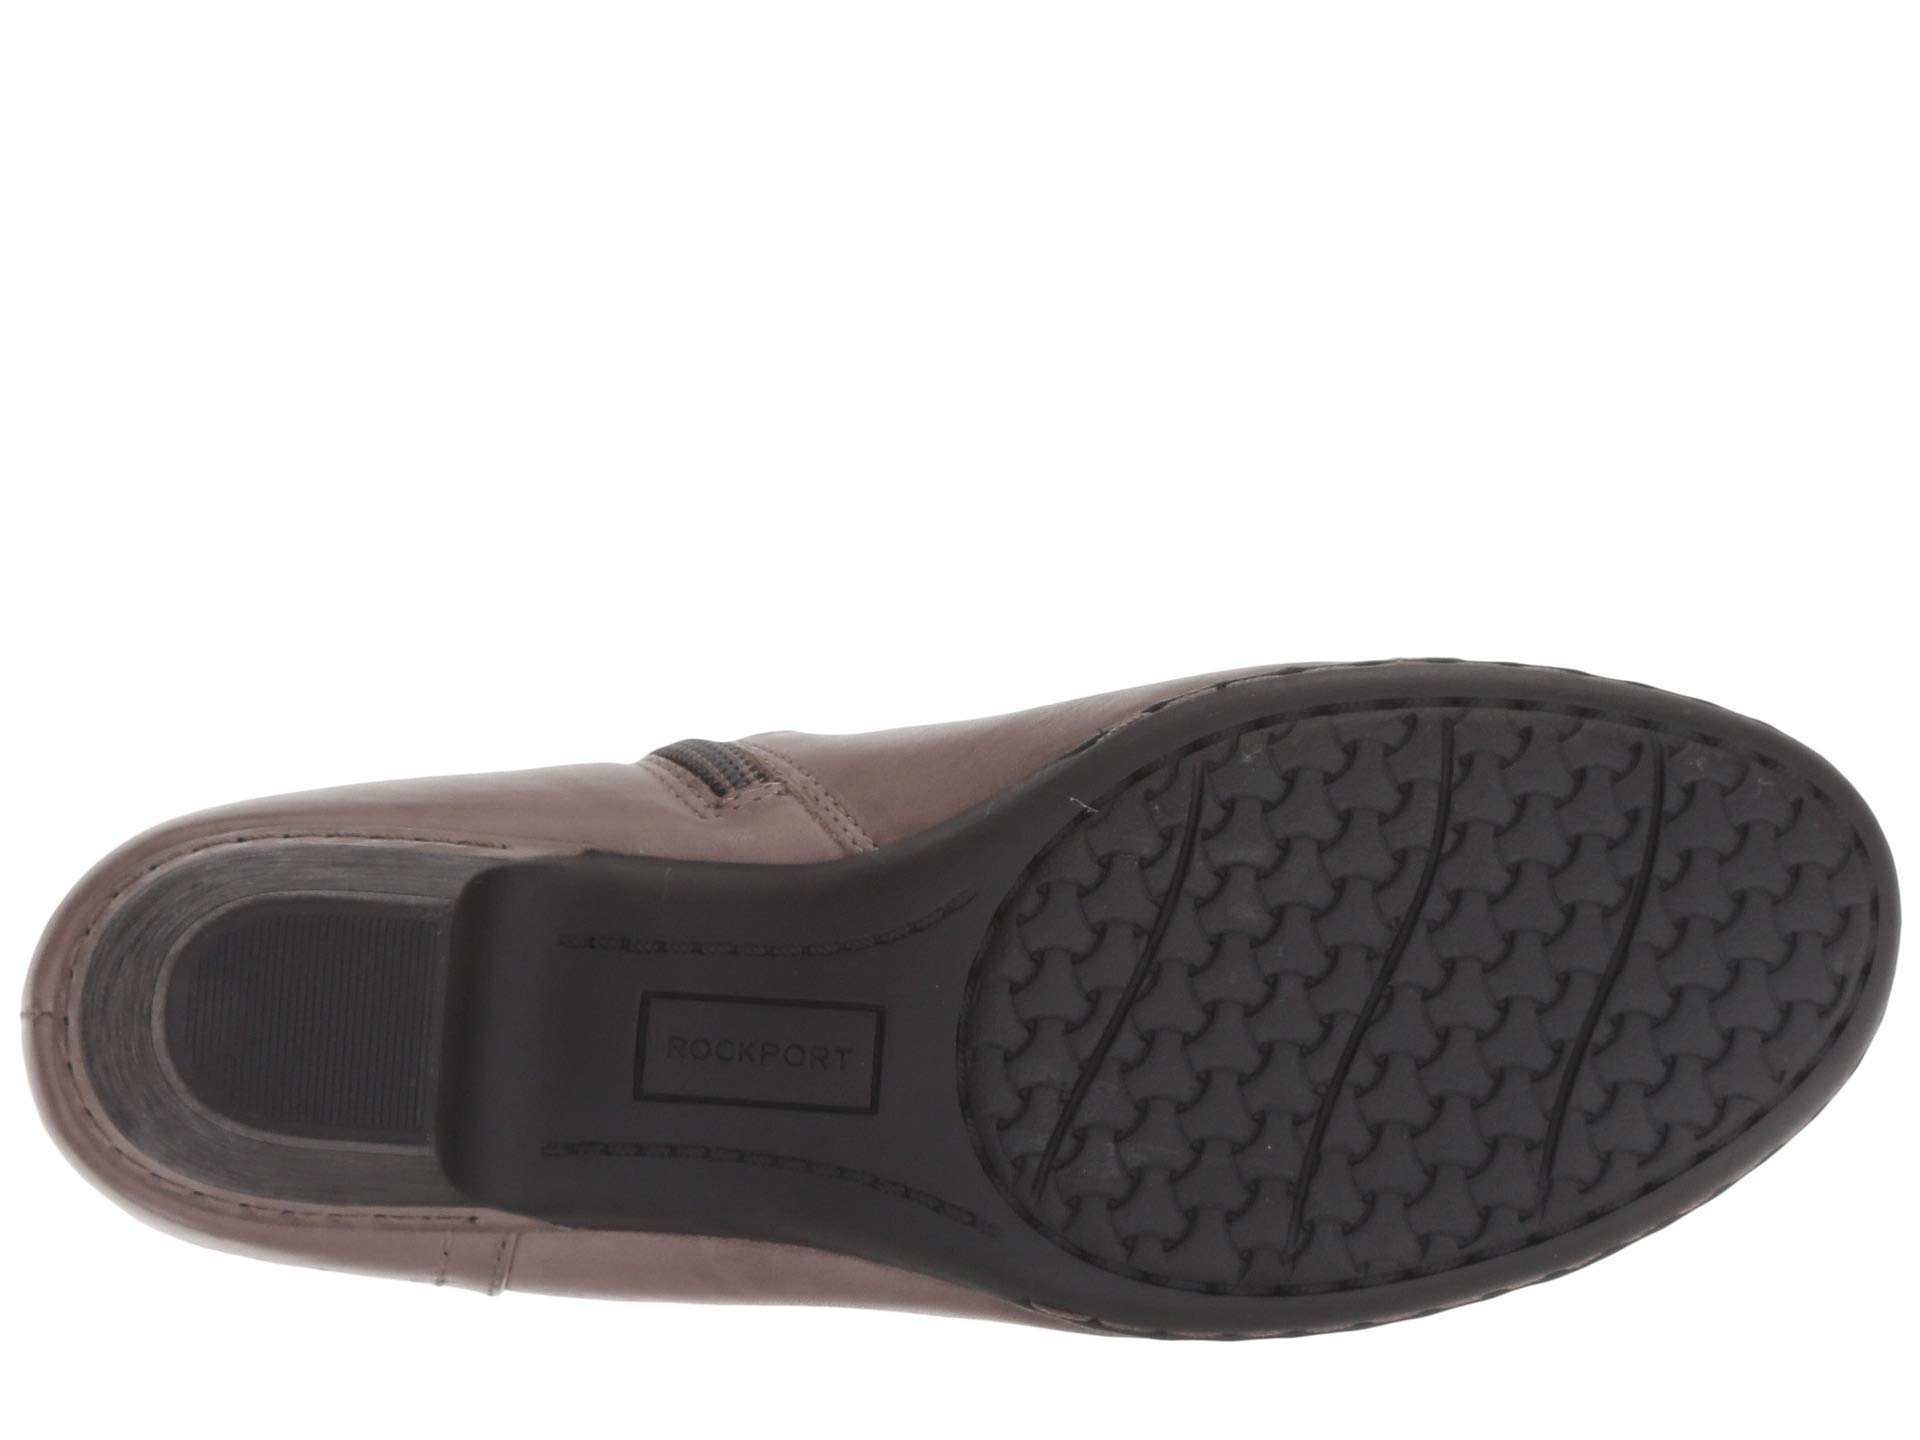star: (1143, 809, 1388, 1023), (1637, 821, 1850, 1056), (1426, 833, 1621, 1042)
